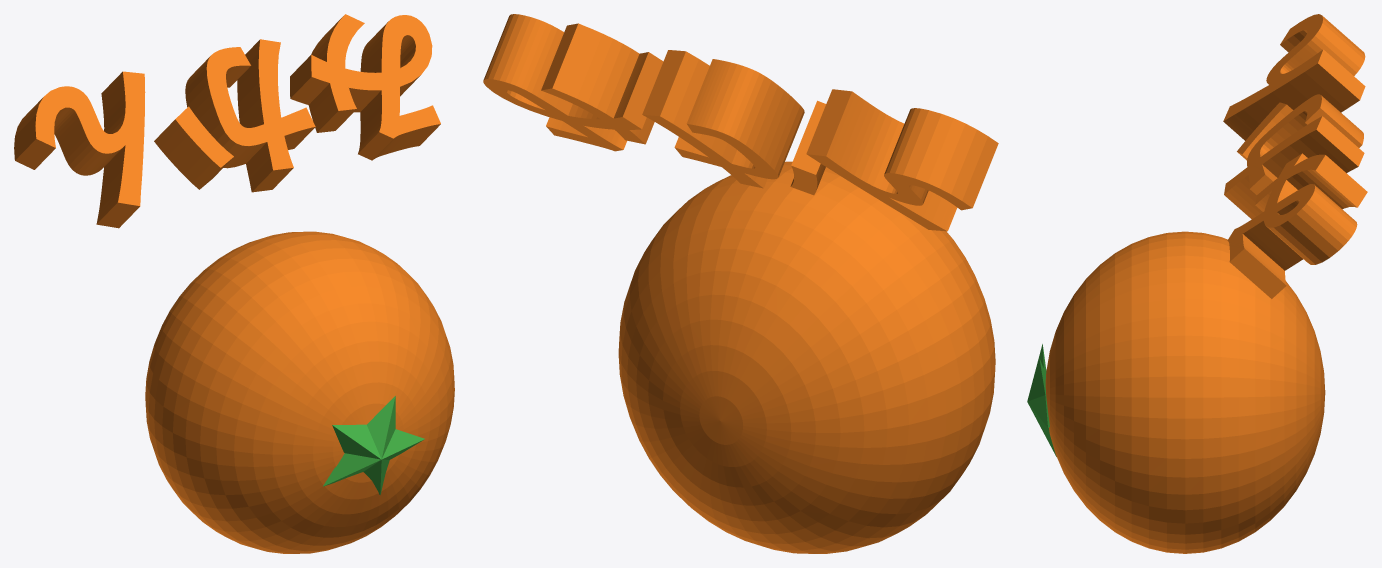
Rendered from tinker.obj.
3 renders of one model, left to right at view 1: azimuth 30°, elevation 25°; view 2: azimuth 150°, elevation 25°; view 3: azimuth 270°, elevation 25°, orthographic. The views are drawn at different scales.
Visible parts, largest first — view 1: group_0_16089887, group_0_4634441; view 2: group_0_16089887; view 3: group_0_16089887, group_0_4634441.
Part boxes in pixels (box(x1,y1,x2,y2)): group_0_16089887: box(14, 14, 454, 553); group_0_4634441: box(323, 396, 424, 494); group_0_16089887: box(483, 14, 998, 553); group_0_16089887: box(1045, 14, 1367, 553); group_0_4634441: box(1027, 344, 1056, 456).
Bounding box in the file's own units: 27.81 × 30 × 21.
